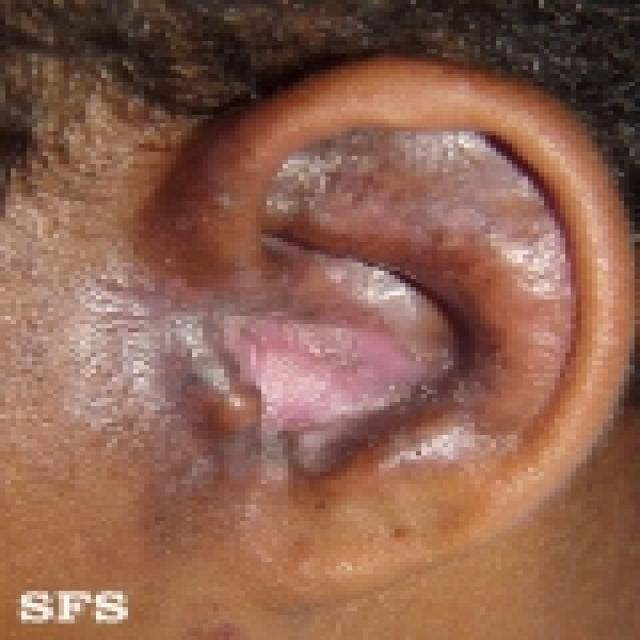lupus: (97, 131, 572, 486)
